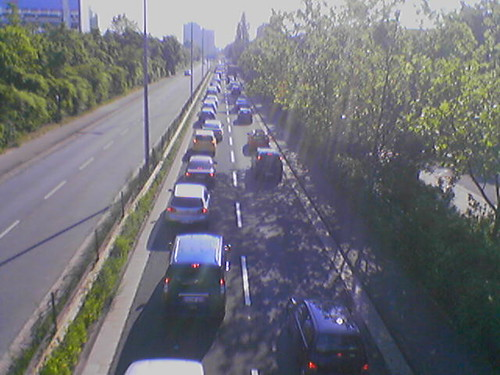car: (277, 287, 369, 375), (164, 230, 235, 319), (164, 180, 214, 228), (182, 155, 215, 183), (187, 128, 220, 156), (238, 126, 271, 154), (251, 151, 284, 179)
street: (1, 78, 389, 367)
vegetation: (241, 28, 500, 300), (10, 23, 172, 122)
